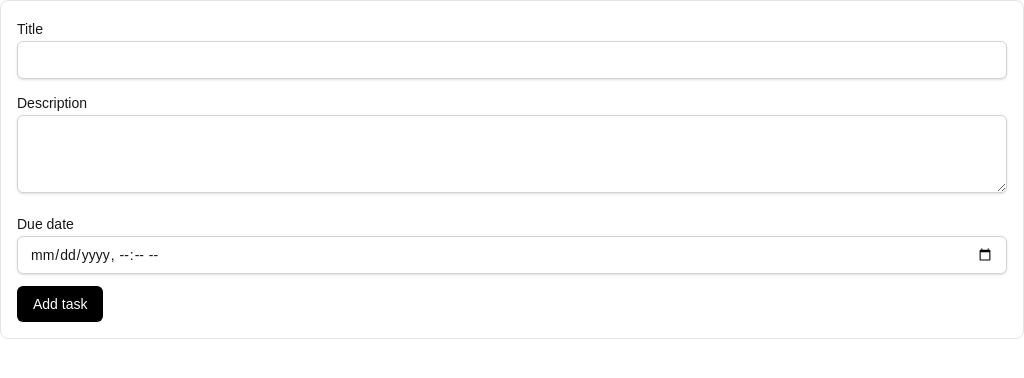
Test: CreateTaskForm › due date rule (AC-2.1b, AC-2.4, AC-2.6a) › refuses a due date more than 10 years ahead, naming the limit
Type "Write the report" into the field labelled "Title" at point(512, 60), box [17,41,1007,79]
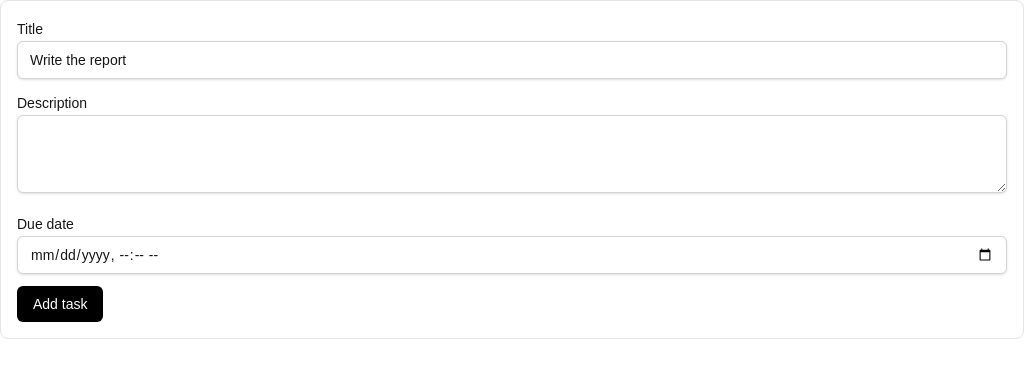
Type "2037-01-02T10:00" into the field labelled "Due date" at point(512, 255), box [17,236,1007,274]
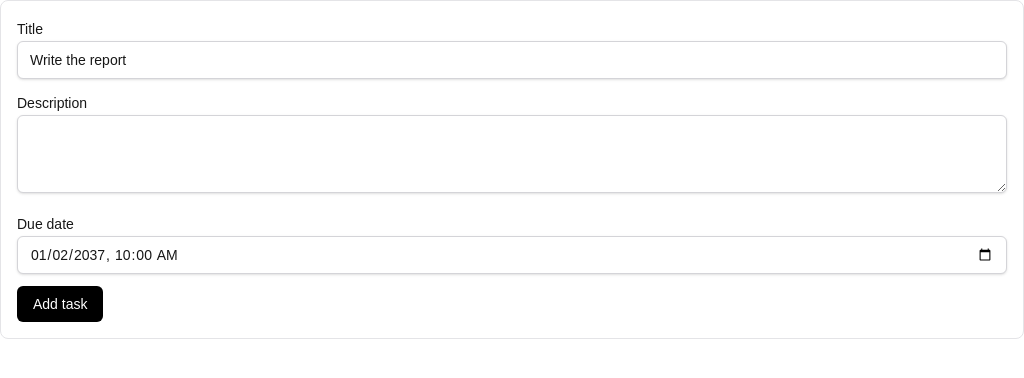
Click the button "Add task" at point(60, 304), box [17,286,104,322]
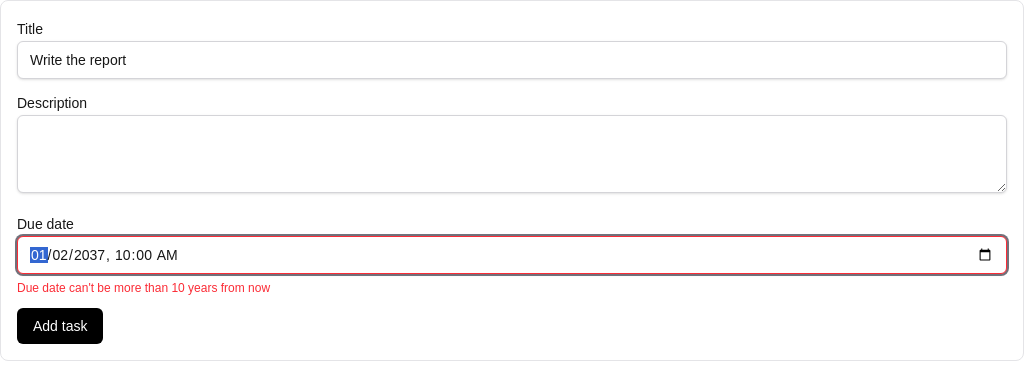
Expected: the text "Due date can't be more than 10 years from now" is shown, [17,281,270,295]
